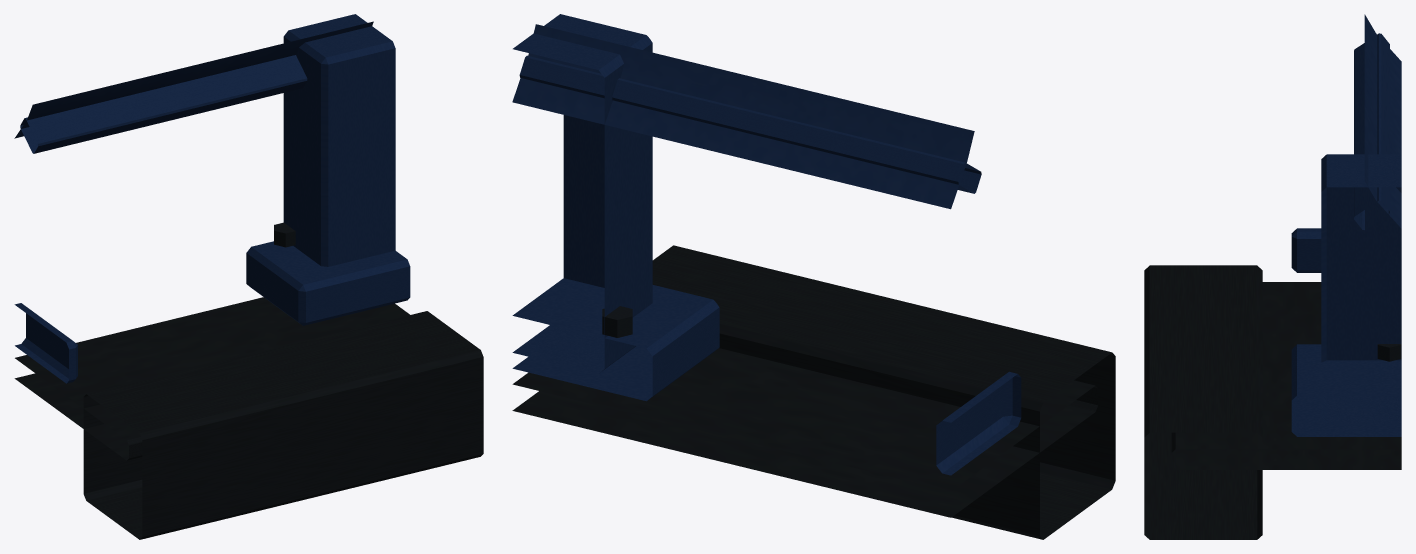
File: cell_16.obj
3 views of the same model, side by side, from view 1: azimuth 30°, elevation 25°; view 2: azimuth 150°, elevation 25°; view 3: azimuth 270°, elevation 25° (orthographic). The views are drawn at different scales.
Visible parts, largest first — view 1: cell_16; view 2: cell_16; view 3: cell_16.
Boxes of the visible parts, <box> form: cell_16: <box>14,14,483,539</box>; cell_16: <box>512,14,1115,539</box>; cell_16: <box>1144,14,1401,539</box>.
Bounding box in the file's own units: 1 × 1 × 0.65.
